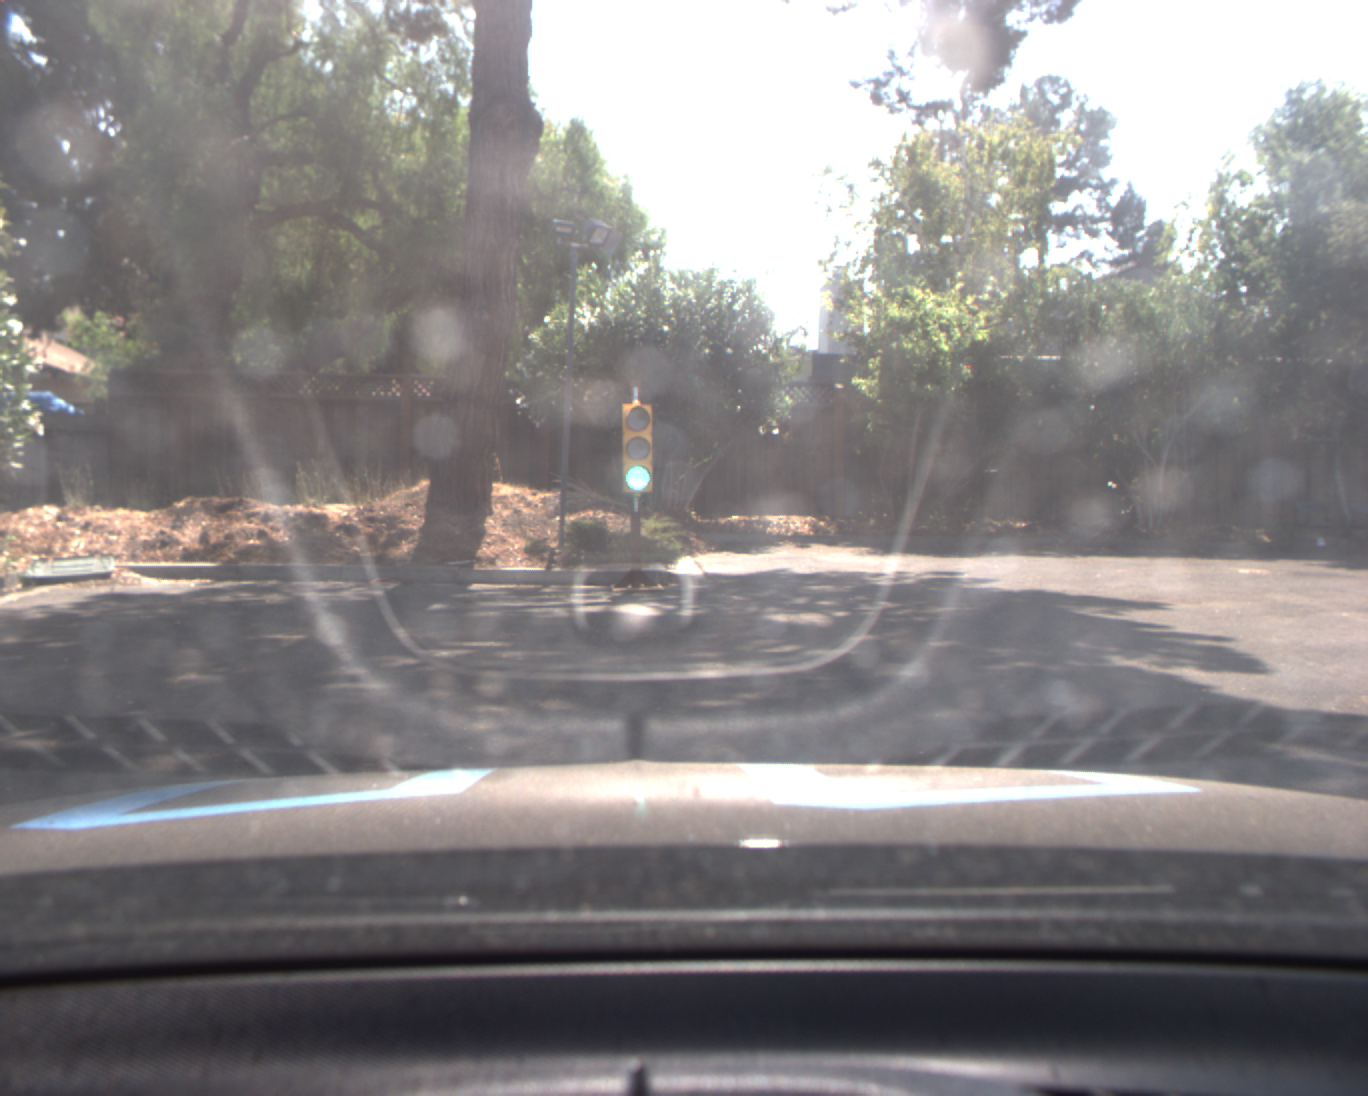green: (617, 397, 658, 494)
